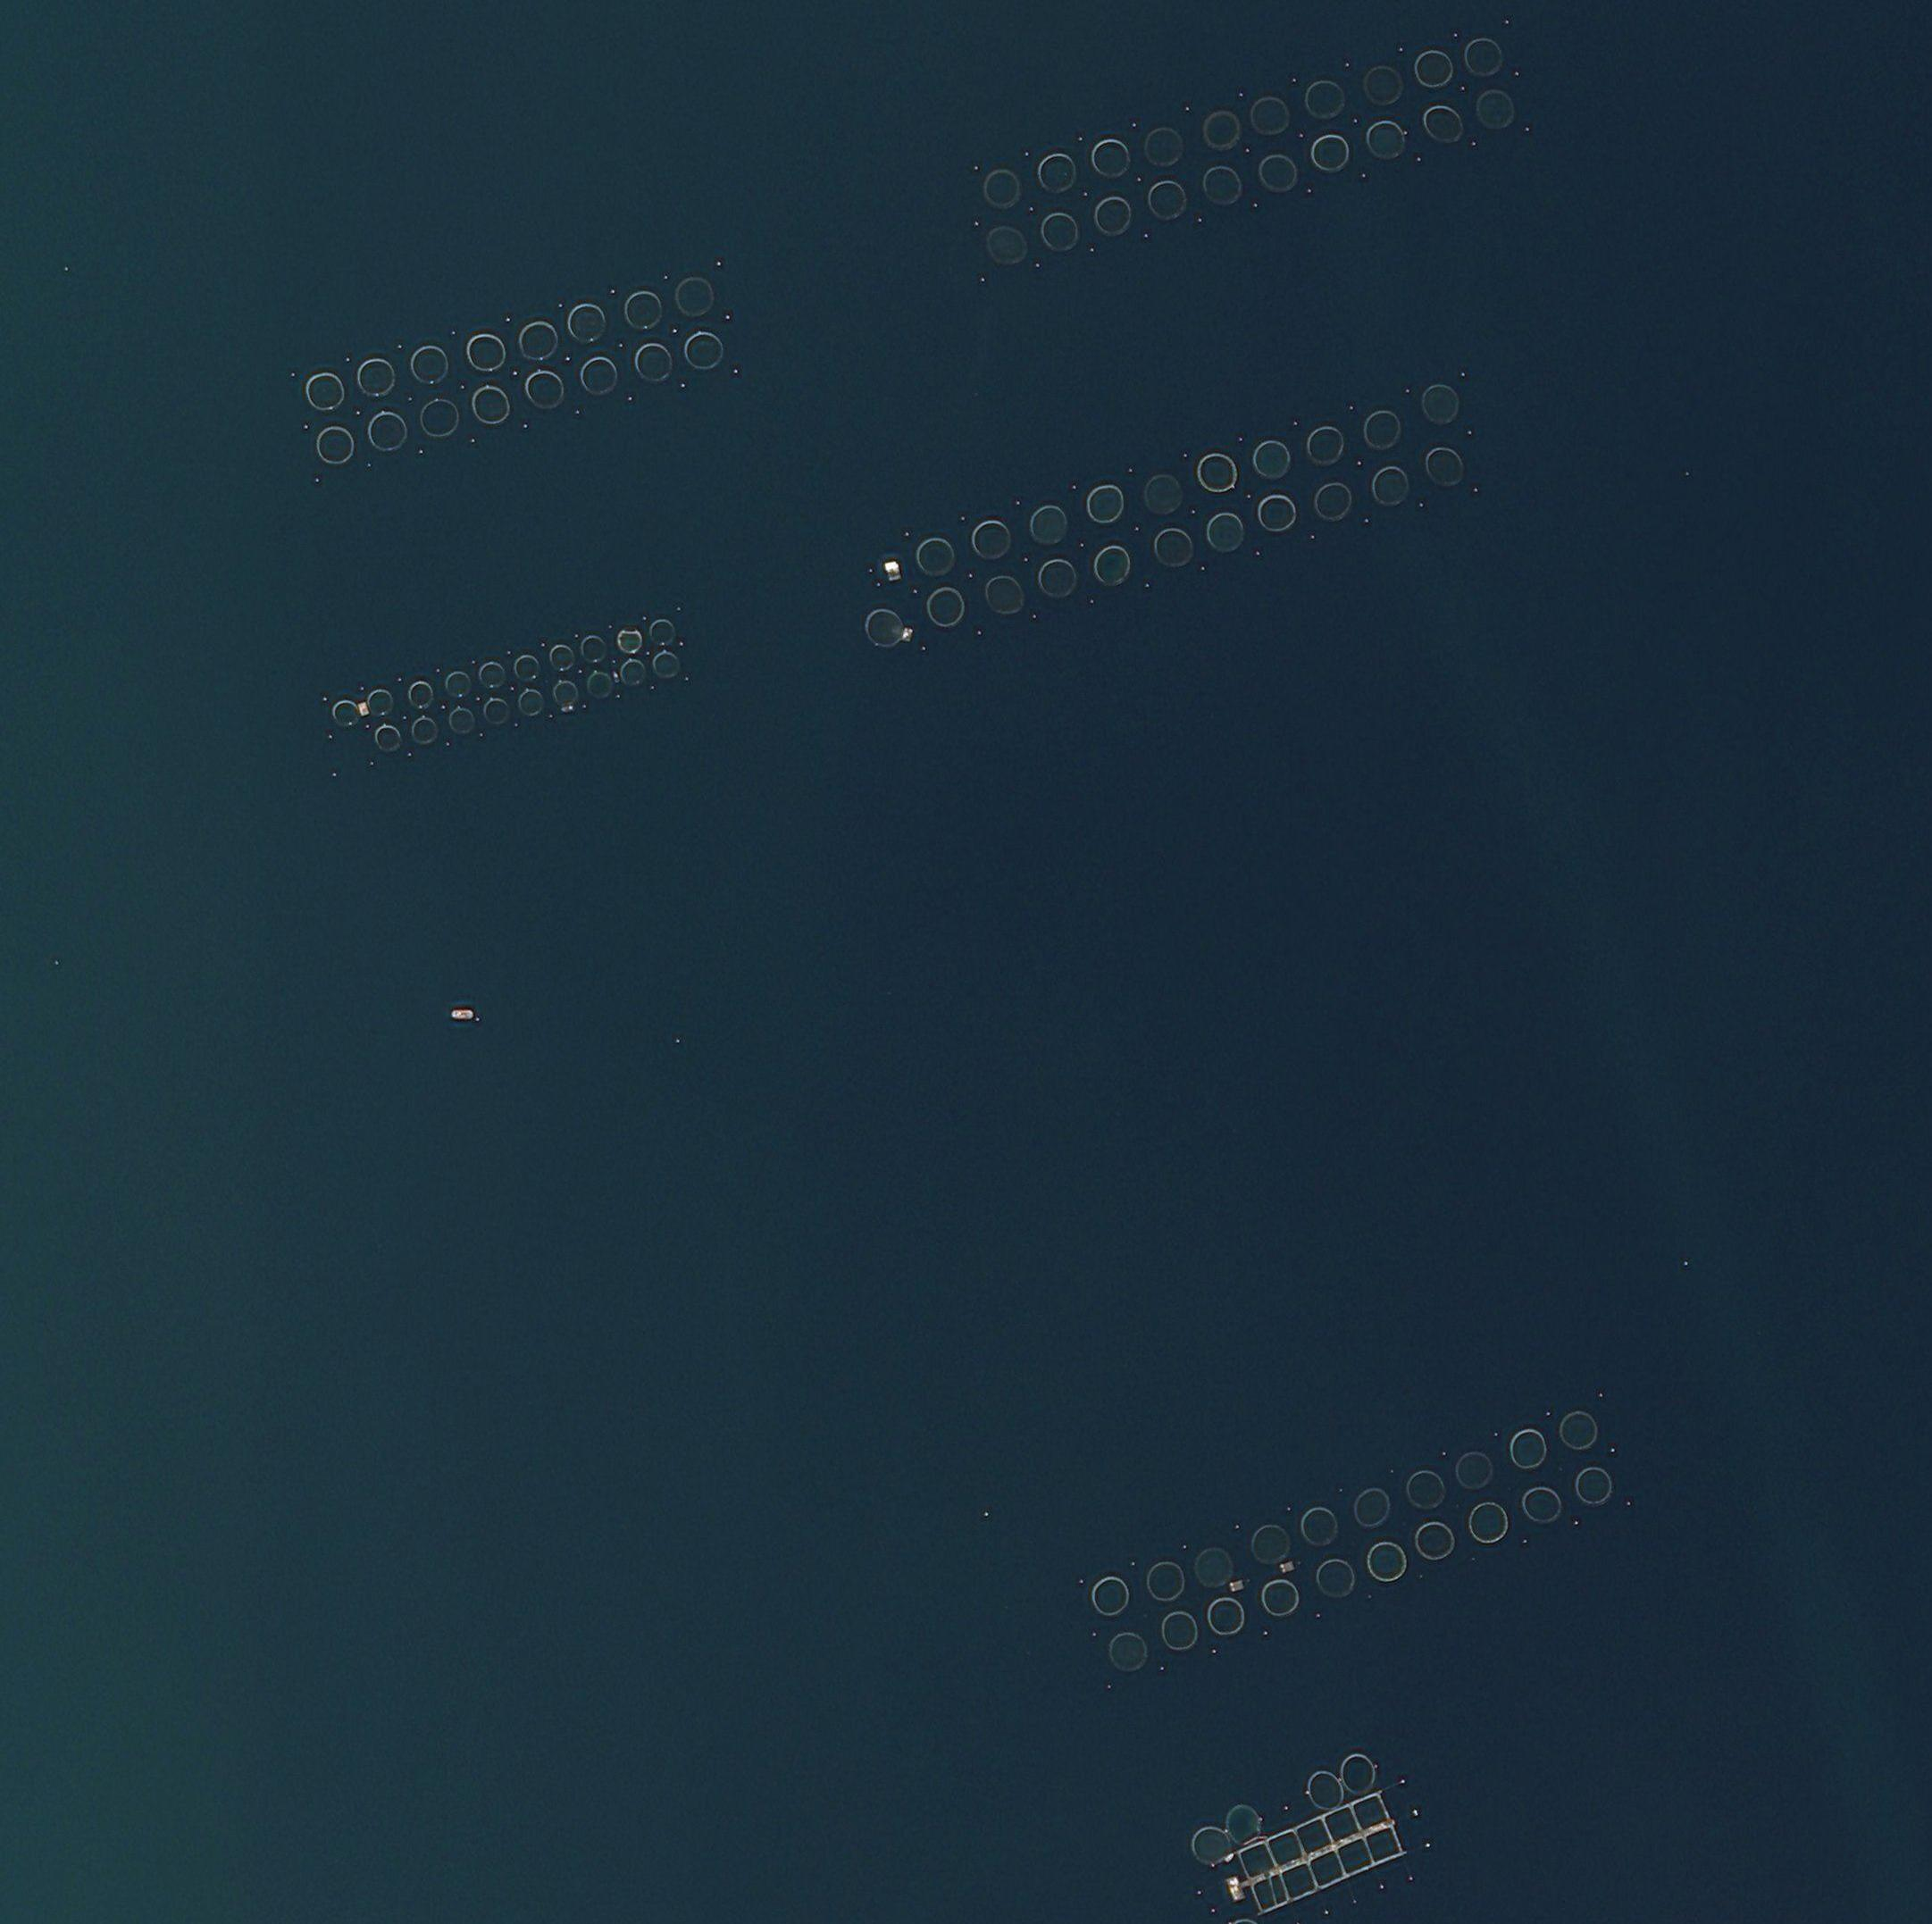c: (1145, 178, 1189, 222), (1141, 472, 1185, 516), (1083, 481, 1127, 525), (518, 319, 560, 363), (1092, 194, 1134, 238), (1141, 125, 1185, 167), (1363, 118, 1407, 160), (983, 573, 1025, 617), (1467, 1501, 1509, 1545), (578, 354, 620, 396), (1036, 153, 1078, 196), (1088, 137, 1131, 180), (1201, 109, 1243, 152), (1249, 95, 1291, 137), (1361, 65, 1404, 107), (1106, 1632, 1148, 1674), (984, 226, 1029, 266), (1092, 544, 1132, 588), (1361, 411, 1404, 451), (1423, 446, 1464, 488), (567, 303, 608, 345), (622, 289, 662, 331), (981, 169, 1023, 210), (1257, 152, 1298, 194), (1462, 37, 1504, 78), (1421, 104, 1464, 144), (1154, 527, 1196, 567), (1029, 504, 1069, 546), (1037, 557, 1078, 599), (925, 587, 967, 627), (463, 333, 507, 372), (305, 372, 345, 412), (470, 386, 511, 426), (1039, 211, 1080, 252), (1201, 166, 1242, 206), (1474, 90, 1515, 130), (1305, 425, 1346, 465), (970, 520, 1011, 560), (1147, 1561, 1187, 1602), (673, 277, 715, 315), (523, 370, 565, 409), (1309, 134, 1351, 173), (914, 537, 956, 576), (1092, 1575, 1131, 1617), (1574, 1464, 1613, 1506), (368, 411, 407, 451), (1302, 1506, 1340, 1547), (1367, 1542, 1407, 1580), (1405, 1469, 1444, 1510), (1414, 1521, 1455, 1559), (634, 342, 673, 382), (683, 329, 722, 370), (1161, 1610, 1199, 1651), (1560, 1410, 1599, 1450), (1509, 1429, 1548, 1469), (1303, 81, 1346, 118), (421, 398, 460, 437), (1314, 483, 1353, 522), (1198, 455, 1236, 493), (1317, 1559, 1356, 1598), (1261, 1579, 1300, 1617), (1455, 1452, 1493, 1491), (1421, 384, 1458, 425), (1414, 49, 1455, 86), (1522, 1487, 1562, 1524), (317, 426, 354, 465), (410, 345, 449, 382), (1254, 440, 1291, 479), (1372, 467, 1409, 506), (1206, 513, 1243, 551), (1206, 1596, 1243, 1635), (1353, 1489, 1390, 1528), (358, 359, 395, 396), (1257, 495, 1294, 532), (407, 680, 435, 710), (616, 625, 645, 655), (447, 708, 476, 736), (652, 650, 680, 678), (444, 671, 474, 698), (412, 717, 439, 745), (479, 661, 505, 689), (484, 698, 511, 726), (512, 655, 541, 682), (548, 643, 574, 671), (650, 618, 676, 647), (620, 659, 646, 687), (518, 689, 544, 715), (375, 726, 402, 752), (581, 634, 606, 662)
